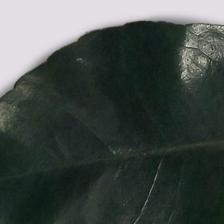healthy: (3, 31, 224, 224)
